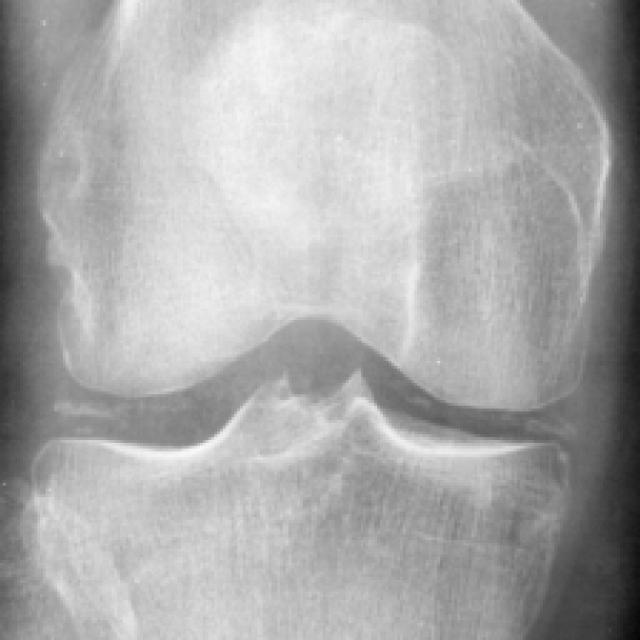femur: (43, 1, 606, 406)
tibia: (37, 377, 560, 637)
